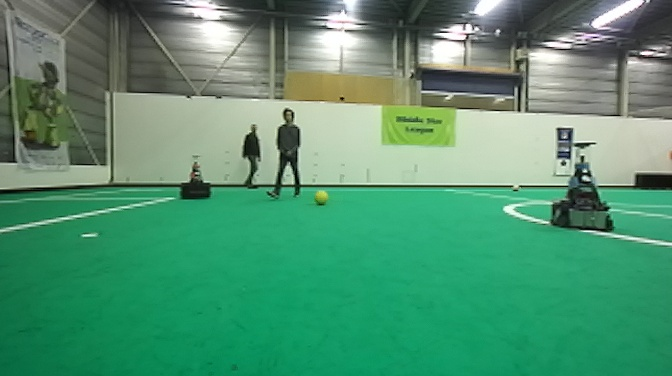ball: (311, 187, 329, 204), (510, 182, 522, 194)
human: (265, 103, 302, 200), (239, 122, 265, 192)
robot: (549, 139, 616, 232), (177, 153, 215, 201)
